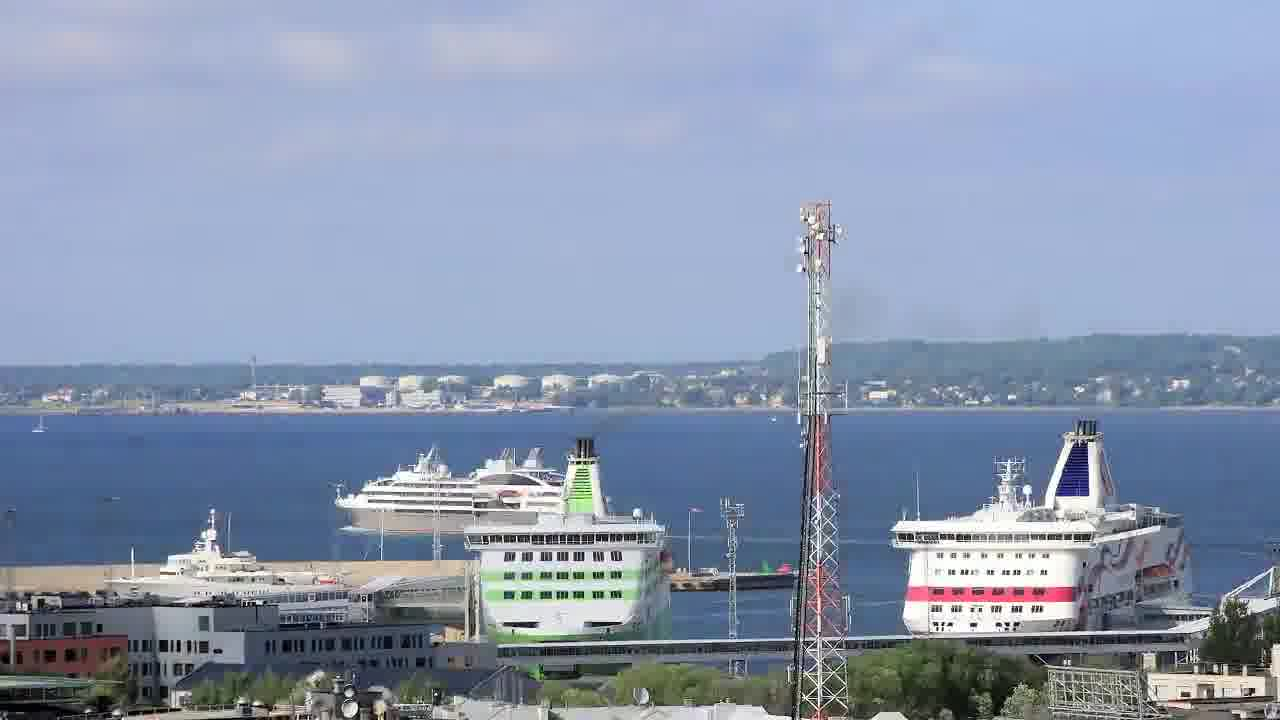type-2: (24, 408, 55, 445)
type-3: (868, 415, 1225, 638), (436, 434, 694, 670), (85, 514, 351, 620), (327, 452, 568, 543)
